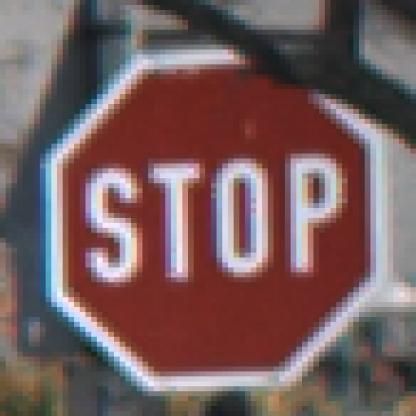Stop: (49, 57, 375, 379)
